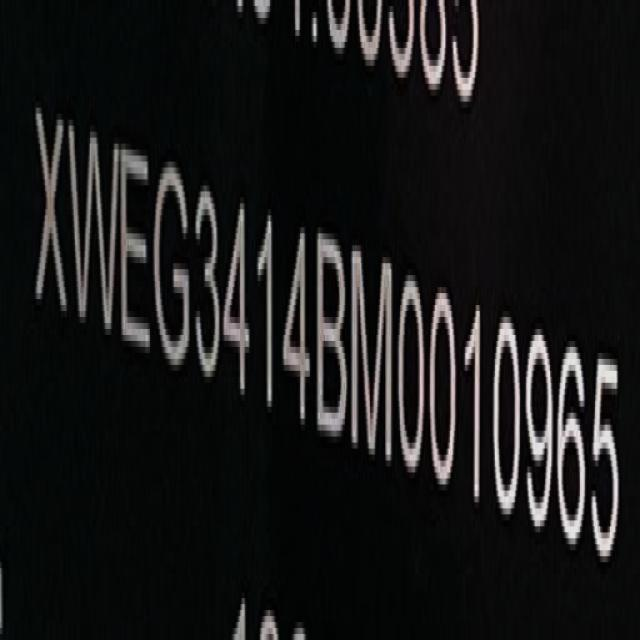0: (428, 274, 460, 504), (397, 261, 427, 495), (493, 296, 522, 530)
1: (258, 199, 278, 426), (465, 288, 485, 514)
3: (195, 171, 226, 395)
4: (282, 212, 314, 443), (222, 184, 253, 413)
5: (594, 337, 624, 570)
6: (556, 333, 587, 555)
9: (525, 316, 555, 540)
B: (315, 223, 351, 455)
E: (120, 128, 156, 374)
G: (152, 143, 194, 380)
M: (352, 235, 396, 474)
W: (70, 107, 122, 359)
X: (32, 90, 72, 346)
